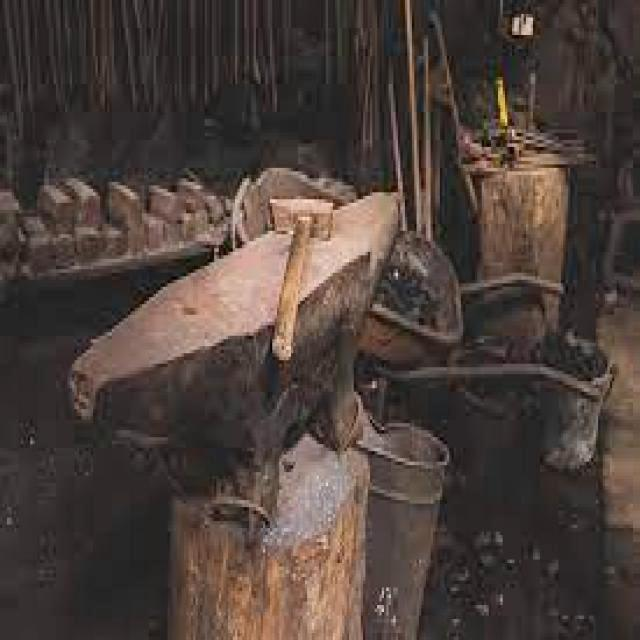hammer: (254, 190, 338, 372)
